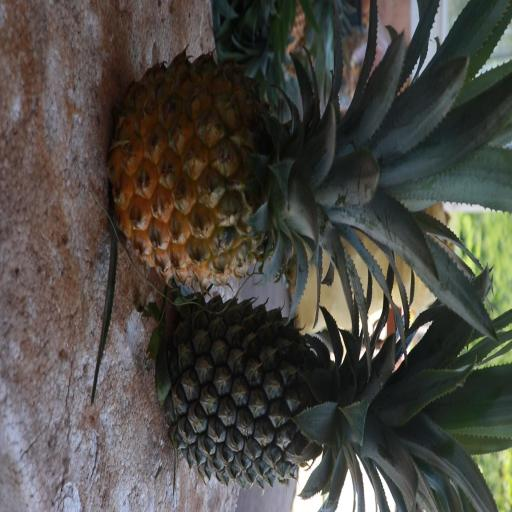Pineapple - v8 v1: (122, 63, 464, 279)
